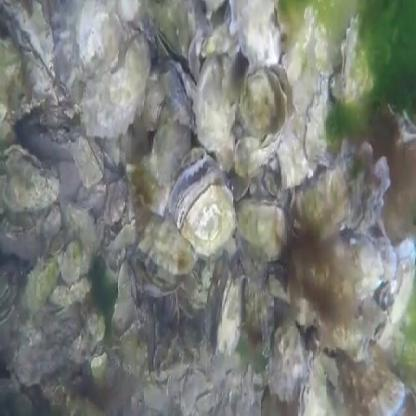Oyster- Indeterminate: (347, 158, 391, 233), (236, 199, 288, 261), (331, 16, 360, 109), (65, 123, 103, 188), (153, 17, 190, 75), (217, 274, 242, 356), (298, 356, 332, 416), (0, 287, 18, 324), (0, 277, 10, 308)
Oyster-Closed: (82, 36, 150, 139), (332, 350, 405, 416), (230, 0, 282, 74), (195, 56, 235, 150), (265, 318, 306, 405), (151, 104, 192, 184), (305, 78, 342, 166), (128, 154, 170, 214), (234, 138, 262, 180), (181, 369, 206, 415), (36, 205, 61, 242), (62, 242, 82, 284), (230, 170, 250, 202), (111, 181, 127, 220), (92, 352, 108, 391), (105, 181, 119, 224), (195, 392, 217, 410), (48, 238, 63, 255)
Oyster-Open: (167, 152, 237, 257), (135, 209, 199, 288), (239, 62, 293, 139), (0, 145, 61, 212), (335, 231, 385, 302), (385, 102, 416, 140), (361, 298, 388, 341)
